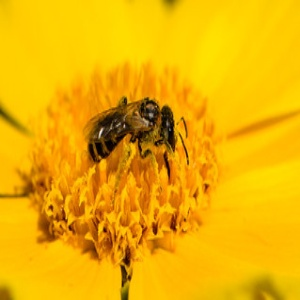bee: (83, 96, 190, 187)
